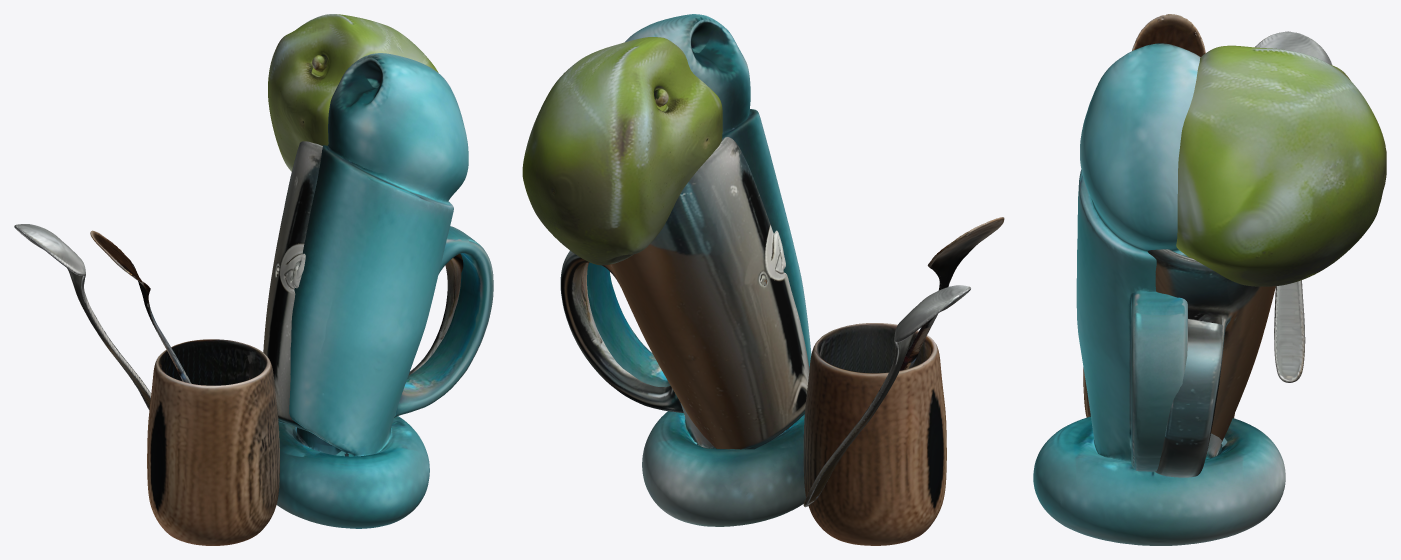
The model's file is midi_textured.glb.
3 renders of one model, left to right at view 1: azimuth 30°, elevation 25°; view 2: azimuth 150°, elevation 25°; view 3: azimuth 270°, elevation 25°, orthographic. The views are drawn at different scales.
Parts seen in each view (by area): view 1: geometry_0a139cdb1ead2, geometry_0ac8c5bad6076, geometry_09b7333fcf5de, geometry_0, geometry_0f5b2c4702cb3; view 2: geometry_0, geometry_09b7333fcf5de, geometry_0ac8c5bad6076, geometry_0a139cdb1ead2, geometry_0f5b2c4702cb3; view 3: geometry_0a139cdb1ead2, geometry_09b7333fcf5de, geometry_0, geometry_0f5b2c4702cb3, geometry_0ac8c5bad6076.
Part boxes in pixels (x1,y1,x2,y2): geometry_0a139cdb1ead2: (276,53,493,528); geometry_0ac8c5bad6076: (90,230,279,545); geometry_09b7333fcf5de: (268,14,438,171); geometry_0: (263,141,463,432); geometry_0f5b2c4702cb3: (14,224,151,409); geometry_0: (560,137,809,449); geometry_09b7333fcf5de: (522,37,722,265); geometry_0ac8c5bad6076: (803,217,1004,545); geometry_0a139cdb1ead2: (587,14,811,526); geometry_0f5b2c4702cb3: (803,285,970,507); geometry_0a139cdb1ead2: (1033,43,1285,545); geometry_09b7333fcf5de: (1176,45,1386,286); geometry_0: (1147,249,1275,477); geometry_0f5b2c4702cb3: (1255,31,1332,382); geometry_0ac8c5bad6076: (1083,14,1234,418).
Bounding box in the file's own units: 1.9 × 1.91 × 1.23.
5 materials, 5 textured.
